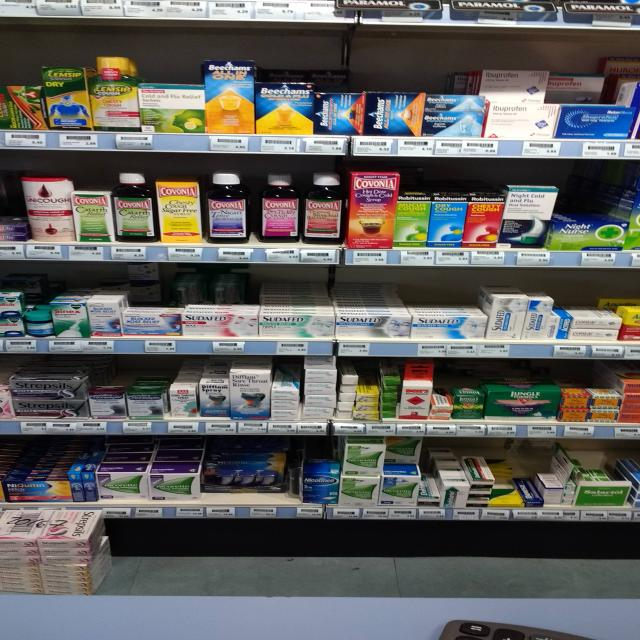unorganised: (203, 467, 286, 499), (365, 92, 424, 137), (314, 92, 365, 134), (483, 70, 550, 101), (1, 84, 45, 131), (550, 72, 603, 102)
